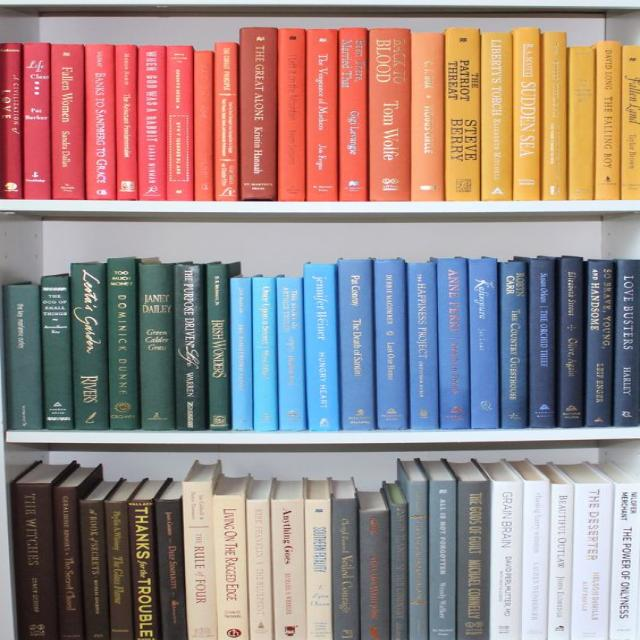book: (369, 28, 410, 200), (12, 484, 57, 640), (570, 483, 611, 640), (240, 28, 277, 200), (71, 264, 108, 429), (445, 28, 480, 201), (140, 264, 176, 430), (4, 284, 44, 430), (306, 265, 340, 432), (374, 260, 407, 430), (438, 259, 470, 430), (341, 261, 373, 430), (456, 481, 490, 640), (307, 28, 338, 202), (183, 482, 217, 640), (108, 258, 139, 430), (52, 45, 86, 200), (412, 32, 442, 201), (482, 31, 512, 200), (490, 481, 521, 640), (469, 260, 498, 429), (214, 496, 248, 640), (176, 266, 205, 430), (53, 487, 84, 640), (530, 259, 558, 428), (408, 262, 436, 430), (42, 276, 72, 429), (278, 277, 307, 432), (272, 500, 304, 640), (154, 500, 186, 640), (278, 28, 304, 200), (340, 28, 366, 200), (86, 44, 115, 198), (514, 28, 540, 199), (610, 483, 638, 640), (79, 500, 110, 640), (501, 263, 527, 429), (522, 481, 549, 640), (24, 43, 51, 199), (128, 500, 158, 640), (587, 261, 612, 427), (594, 41, 620, 200), (139, 44, 165, 200), (560, 259, 584, 428), (104, 501, 133, 640), (167, 45, 193, 200), (616, 260, 640, 427), (304, 499, 332, 640), (430, 480, 454, 640), (332, 498, 359, 640), (361, 511, 390, 640), (548, 484, 572, 639), (544, 32, 566, 200), (0, 42, 23, 200), (207, 266, 229, 430), (114, 45, 137, 199), (254, 278, 277, 432), (569, 46, 592, 199), (214, 42, 236, 201), (248, 500, 272, 640), (231, 278, 253, 430), (408, 479, 426, 640), (195, 51, 214, 200), (623, 45, 640, 198), (392, 503, 407, 640)
